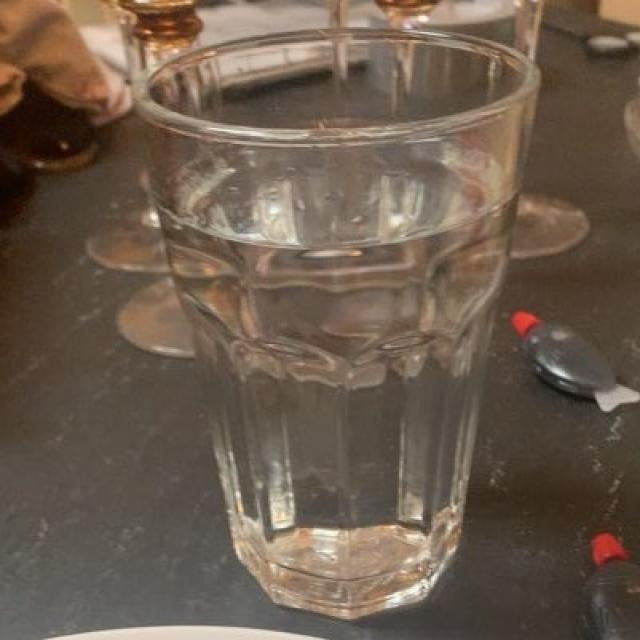water: (154, 159, 498, 595)
